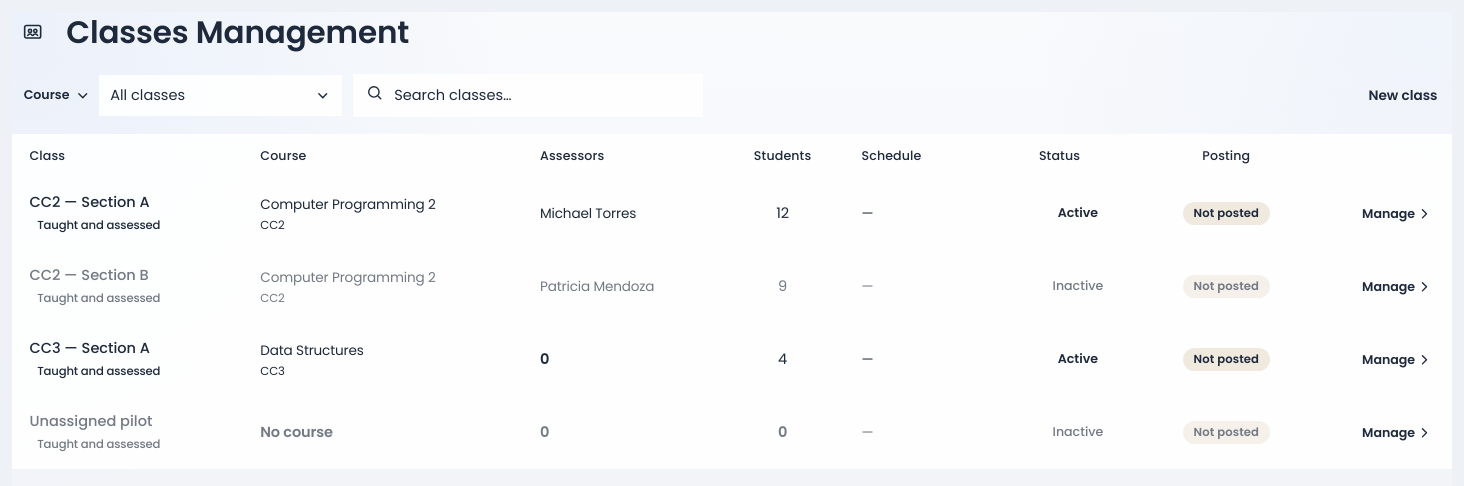
Test: ClassesManagement — the course filter › offers a choice of what to filter on, not only which course
Click the dropdown named "Choose what to filter classes by": (56, 95) [12, 75, 100, 116]
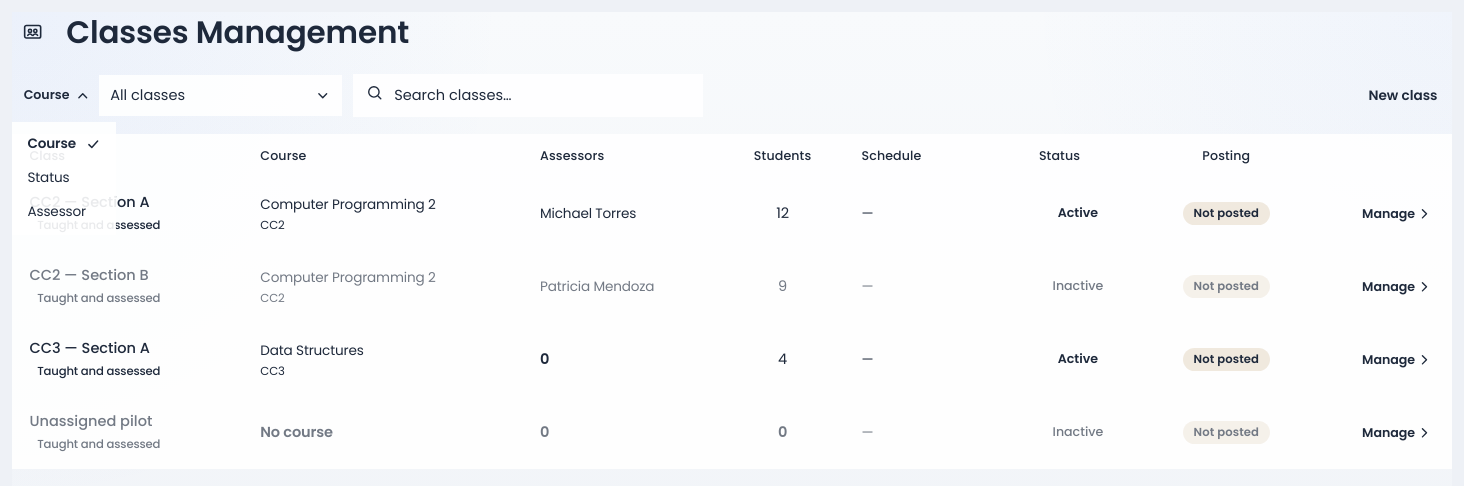
Now the options read "Course", "Status", "Assessor", in this order, box [28, 134, 100, 153]; [28, 168, 69, 187]; [28, 202, 86, 221]
